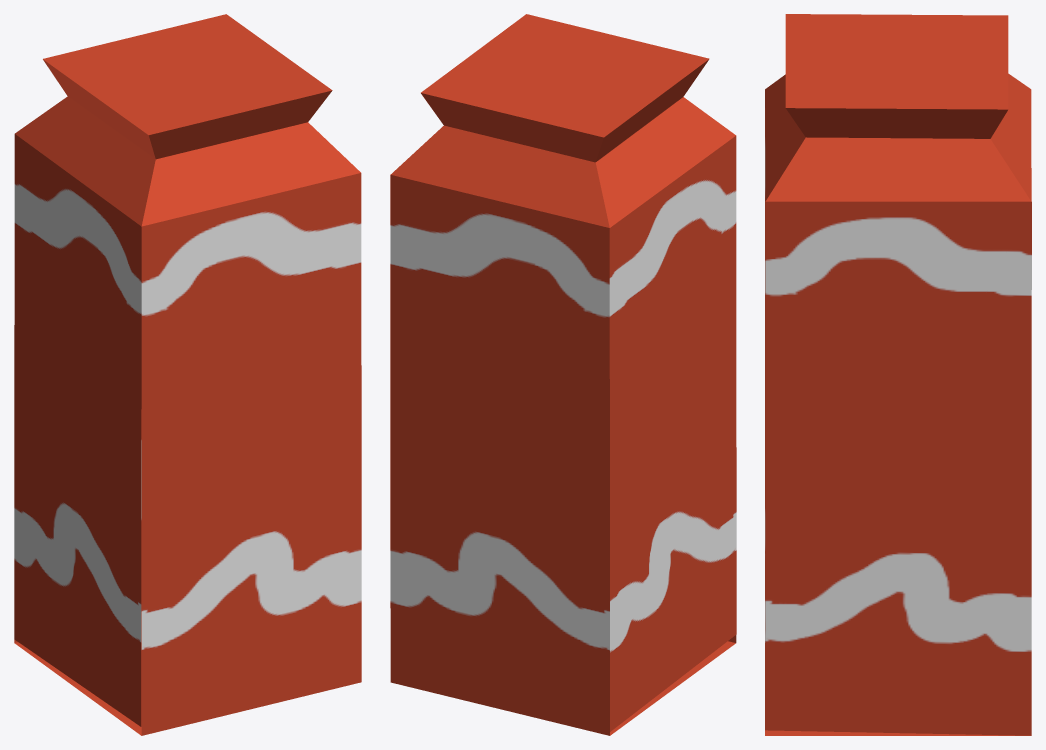
The model's file is package1.glb.
3 renders of one model, left to right at view 1: azimuth 30°, elevation 25°; view 2: azimuth 150°, elevation 25°; view 3: azimuth 270°, elevation 25°, orthographic. The views are drawn at different scales.
Visible parts, largest first — view 1: Tomato; view 2: Tomato; view 3: Tomato.
Boxes of the visible parts, <box> form: Tomato: <box>14,14,361,735</box>; Tomato: <box>390,14,736,735</box>; Tomato: <box>765,14,1031,735</box>.
Size of the model in its own units: 0.1525 by 0.3897 by 0.1525.
Materials: 1 (1 with a texture image).
